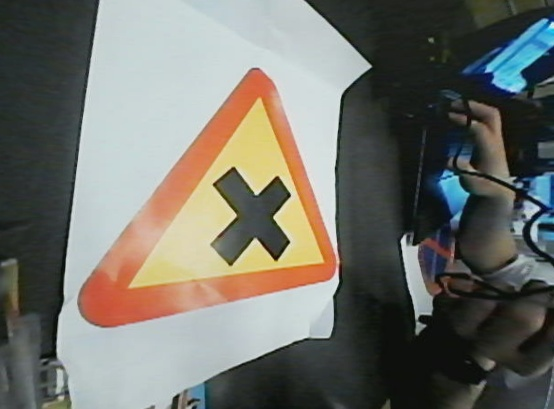junction: (68, 61, 343, 334)
